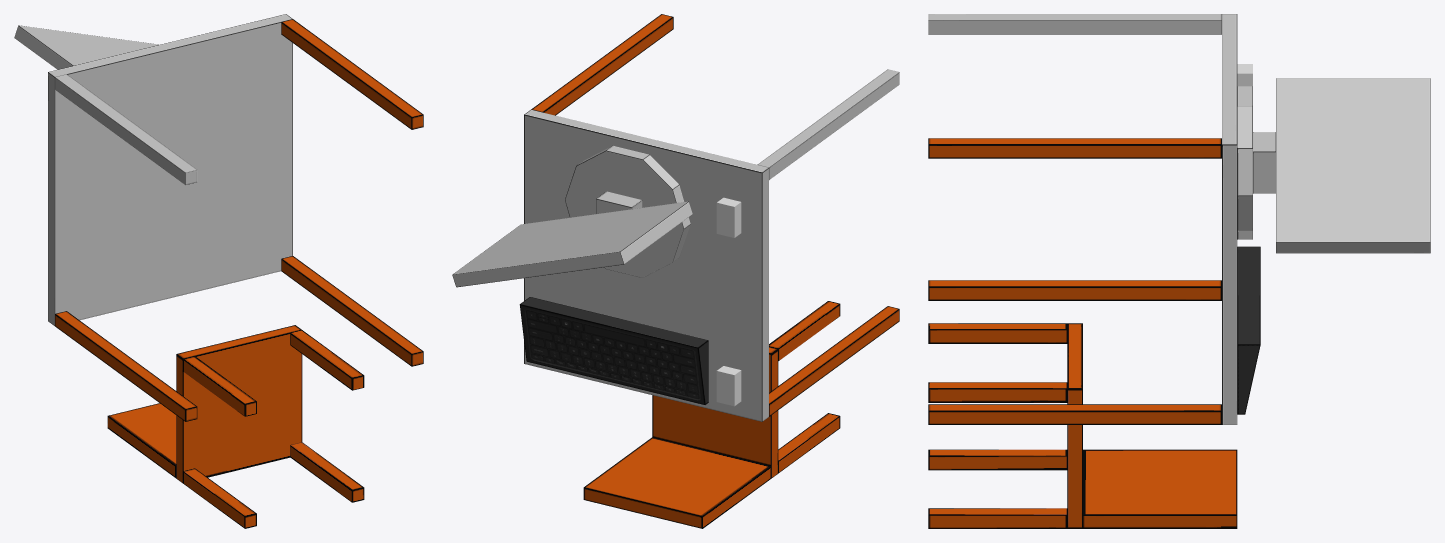
Rendered from deskset.dae.
3 views of the same model, side by side, from view 1: azimuth 30°, elevation 25°; view 2: azimuth 150°, elevation 25°; view 3: azimuth 270°, elevation 25° (orthographic). The views are drawn at different scales.
Visible parts, largest first — view 1: desk-surface, chair, leg_003, leg_002, leg_001, leg, screen; view 2: desk-surface, chair, screen, keyboad, leg, leg_003, leg_001, mouse, pee; view 3: screen, chair, desk-surface, leg, leg_003, leg_002, leg_001, keyboad.
Part boxes in pixels (box(x1,y1,x2,y2)): desk-surface: box(48, 14, 292, 325); chair: box(107, 325, 364, 528); leg_003: box(55, 311, 197, 421); leg_002: box(281, 256, 423, 366); leg_001: box(281, 19, 423, 129); leg: box(55, 74, 197, 184); screen: box(14, 25, 159, 69); desk-surface: box(524, 109, 768, 421); chair: box(583, 301, 840, 528); screen: box(452, 145, 692, 287); keyboad: box(519, 297, 708, 404); leg: box(757, 69, 899, 179); leg_003: box(769, 306, 899, 416); leg_001: box(531, 14, 673, 115); mouse: box(716, 366, 741, 406); pee: box(716, 197, 741, 237); screen: box(1237, 78, 1430, 253); chair: box(928, 323, 1237, 528); desk-surface: box(1222, 14, 1237, 424); leg: box(928, 14, 1221, 34); leg_003: box(928, 280, 1221, 300); leg_002: box(928, 404, 1221, 424); leg_001: box(928, 138, 1221, 158); keyboad: box(1237, 246, 1260, 414).
Size of the model in its own units: 2 by 3.25 by 2.98.
Materials: 8 (8 with a texture image).
